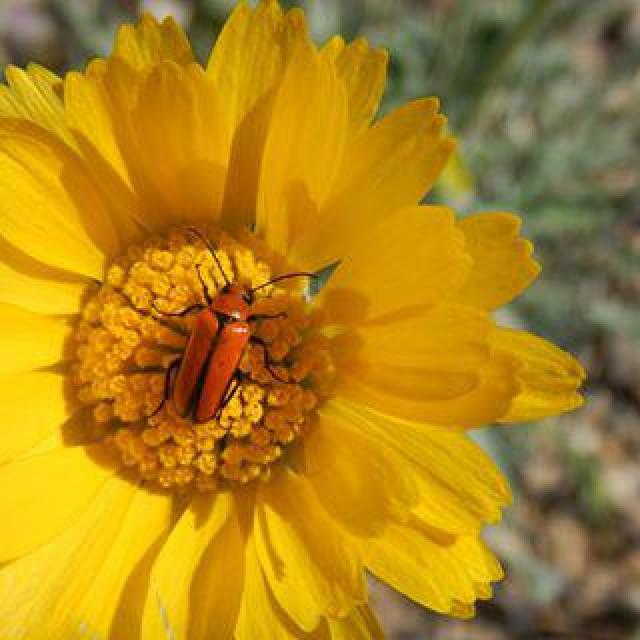BlisterBeetle-Adult-: (147, 221, 317, 437)
